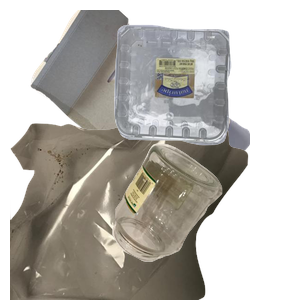glass: (110, 141, 300, 300)
paper: (28, 10, 268, 190)
plastic: (112, 22, 300, 160)
trash: (10, 120, 250, 300)
